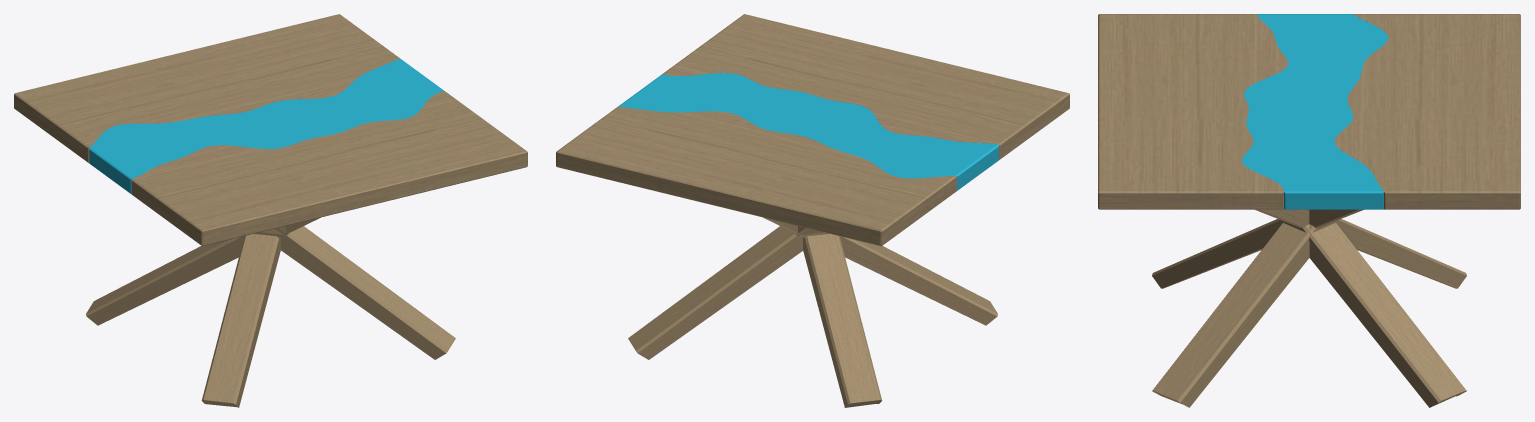
File: square-ash-epoxy-ocean.glb
3 renders of one model, left to right at view 1: azimuth 30°, elevation 25°; view 2: azimuth 150°, elevation 25°; view 3: azimuth 270°, elevation 25°, orthographic. The views are drawn at different scales.
Visible parts, largest first — view 1: Wood_Square_EpoxyFar, Wood_Square_EpoxyNear, Base_Square, Resin_Square; view 2: Wood_Square_EpoxyNear, Wood_Square_EpoxyFar, Base_Square, Resin_Square; view 3: Wood_Square_EpoxyFar, Wood_Square_EpoxyNear, Base_Square, Resin_Square.
Boxes of the visible parts, left/top/right/bottom form: Wood_Square_EpoxyFar: left=131, top=91, right=527, bottom=246; Wood_Square_EpoxyNear: left=14, top=14, right=399, bottom=162; Base_Square: left=86, top=217, right=455, bottom=407; Resin_Square: left=89, top=58, right=443, bottom=194; Wood_Square_EpoxyNear: left=556, top=107, right=956, bottom=246; Wood_Square_EpoxyFar: left=662, top=14, right=1069, bottom=159; Base_Square: left=628, top=217, right=997, bottom=407; Resin_Square: left=618, top=73, right=998, bottom=190; Wood_Square_EpoxyFar: left=1098, top=14, right=1288, bottom=209; Wood_Square_EpoxyNear: left=1334, top=14, right=1520, bottom=209; Base_Square: left=1152, top=209, right=1466, bottom=407; Resin_Square: left=1242, top=14, right=1388, bottom=209.
Bounding box in the file's own units: 1.22 × 0.762 × 1.22.
Materials: 2 (1 with a texture image).
